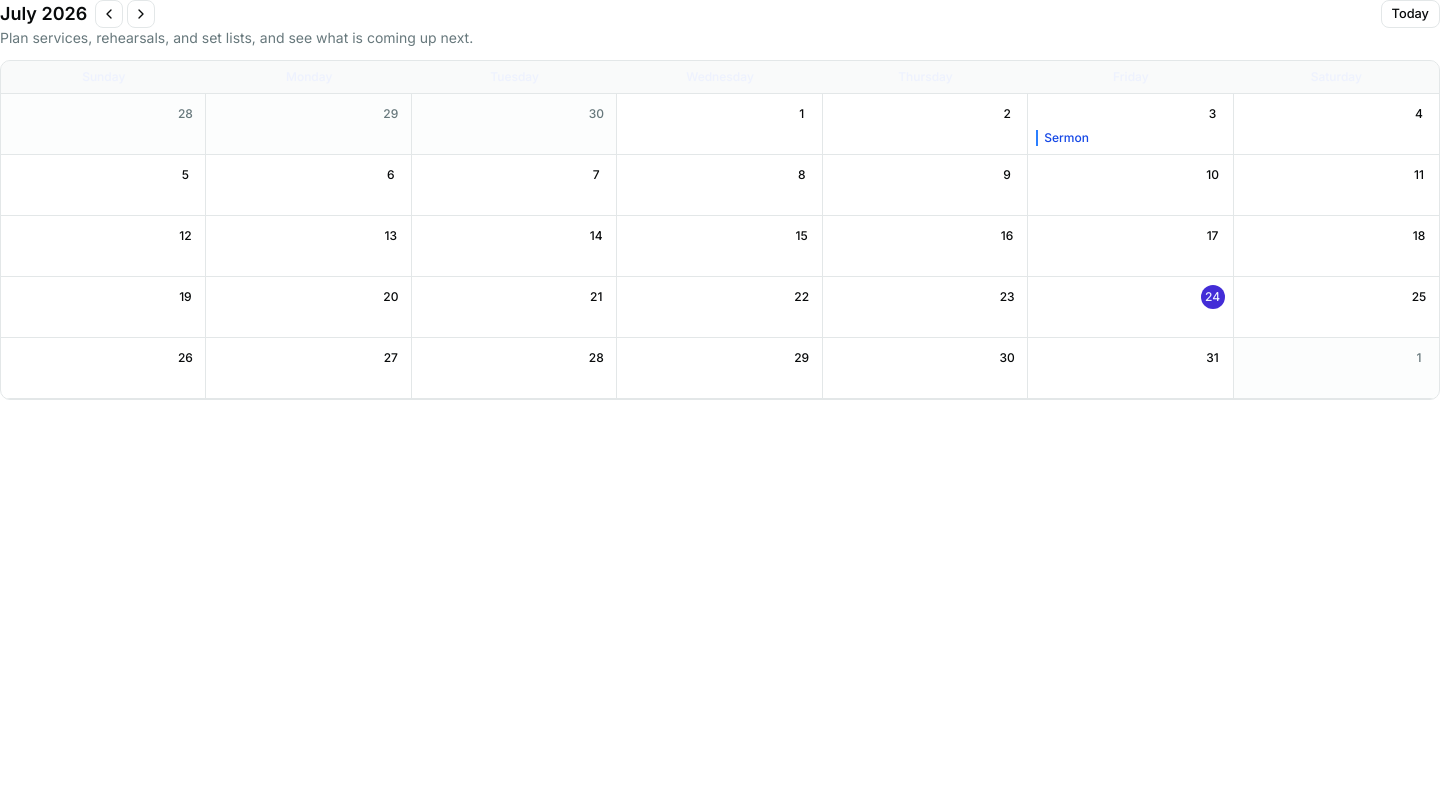
Test: ScheduleCalendar › collapses the popover's song list into a '+N more' line past the visible cap
Click the button "Sermon".
click(1130, 138)  # box [1036,130,1224,146]
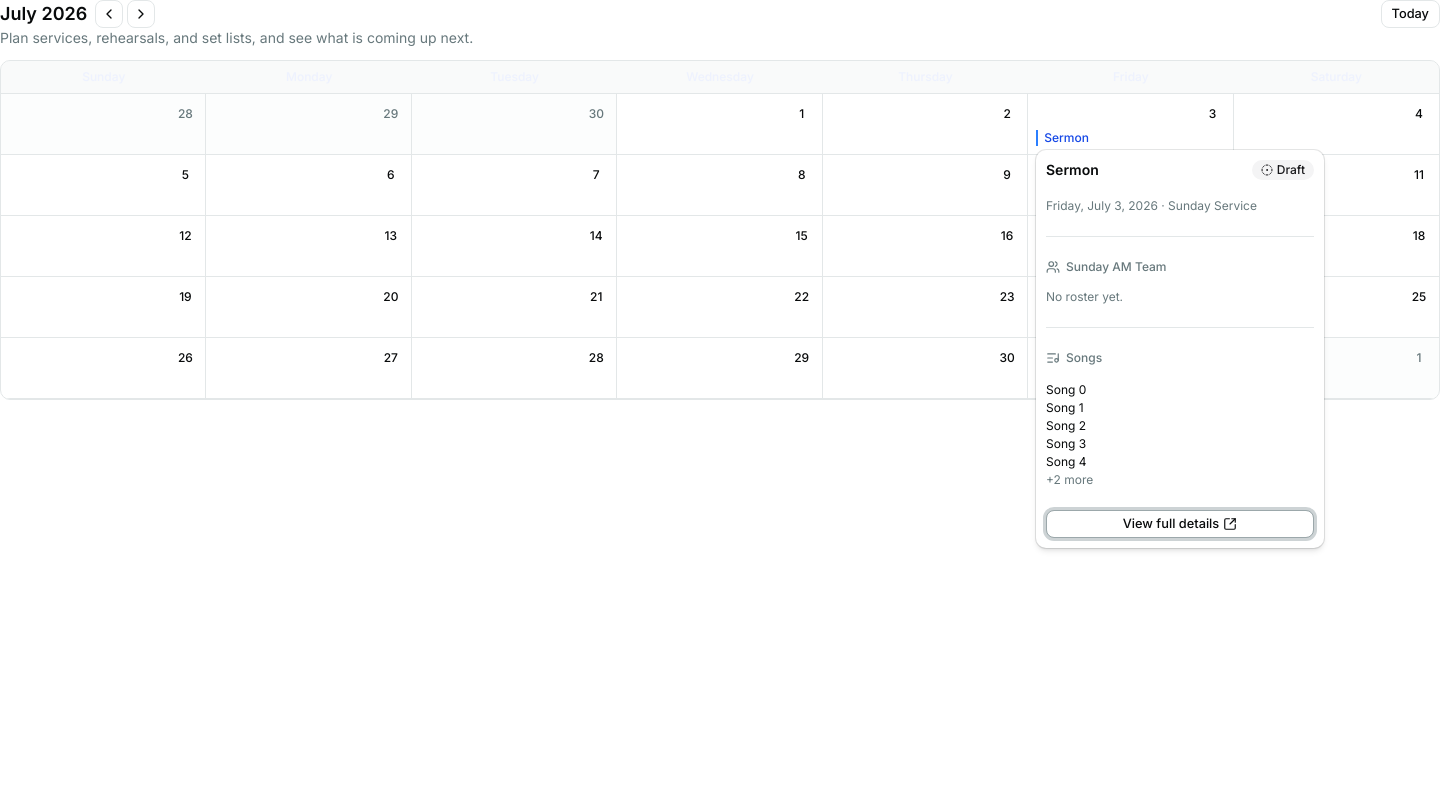
Expected: the list item "Song 0" is shown, [1046,382,1086,397]
Expected: the list item "Song 4" is shown, [1046,454,1086,469]
Expected: the list item "+2 more" is shown, [1046,472,1093,487]
